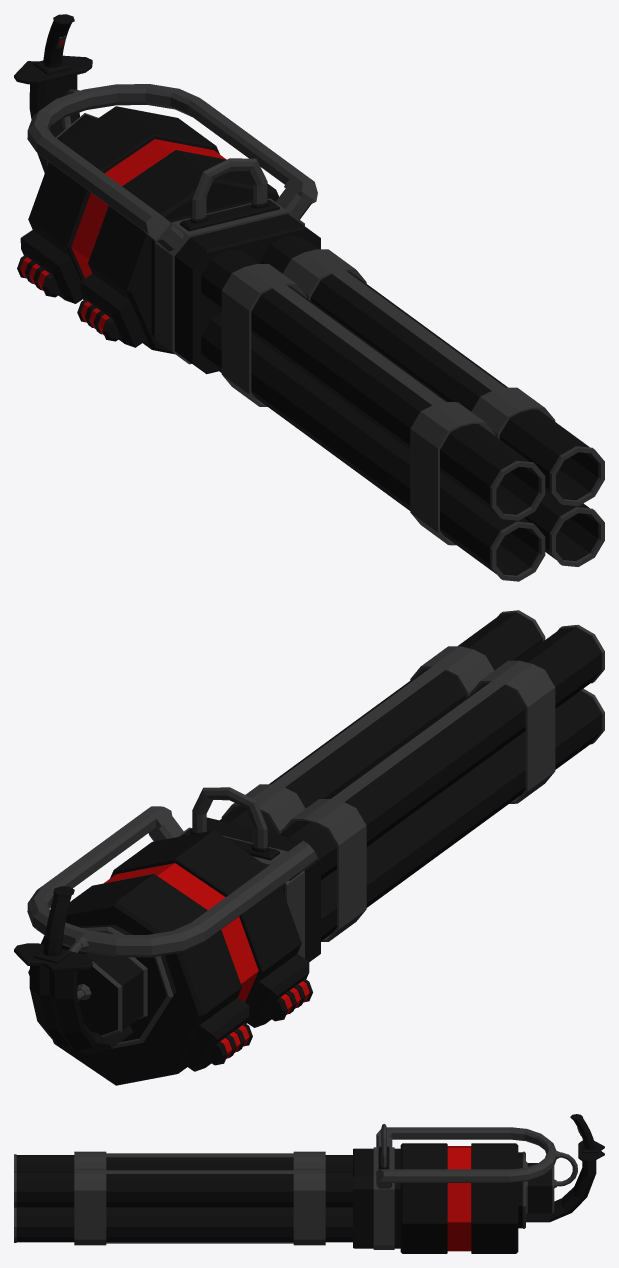
File: RocketLauncher.fbx
3 views of the same model, one above another, from view 1: azimuth 30°, elevation 25°; view 2: azimuth 150°, elevation 25°; view 3: azimuth 270°, elevation 25° (orthographic). The views are drawn at different scales.
Visible parts, largest first — view 1: RocketLauncher; view 2: RocketLauncher; view 3: RocketLauncher.
Part boxes in pixels (x1,y1,x2,y2): RocketLauncher: [14, 14, 604, 581]; RocketLauncher: [14, 610, 604, 1085]; RocketLauncher: [14, 1114, 604, 1253].
Bounding box in the file's own units: 59.42 × 68.53 × 271.
